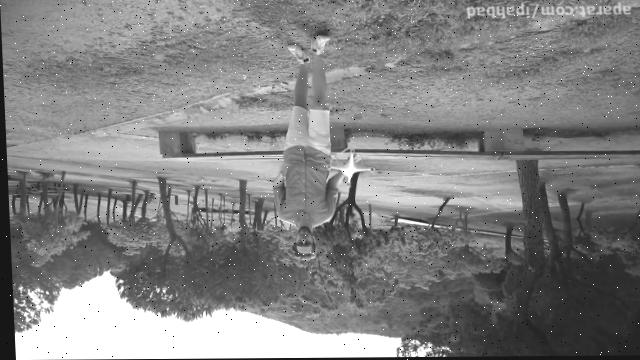drone: (324, 149, 376, 189)
